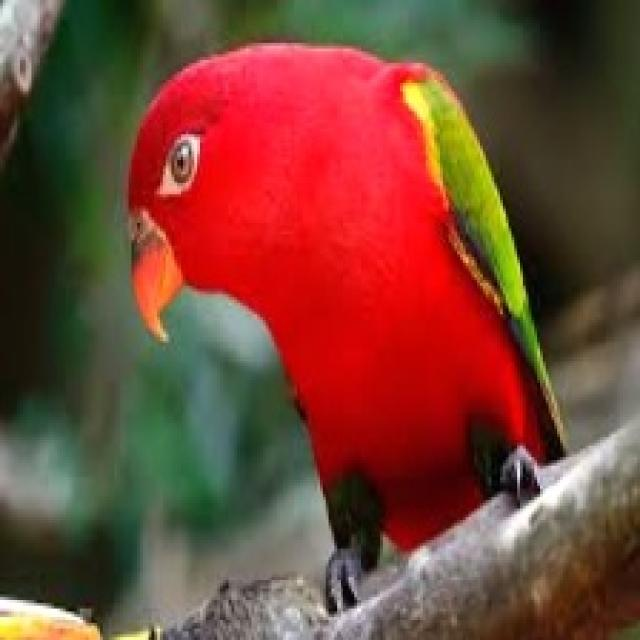bear: (108, 45, 587, 585)
